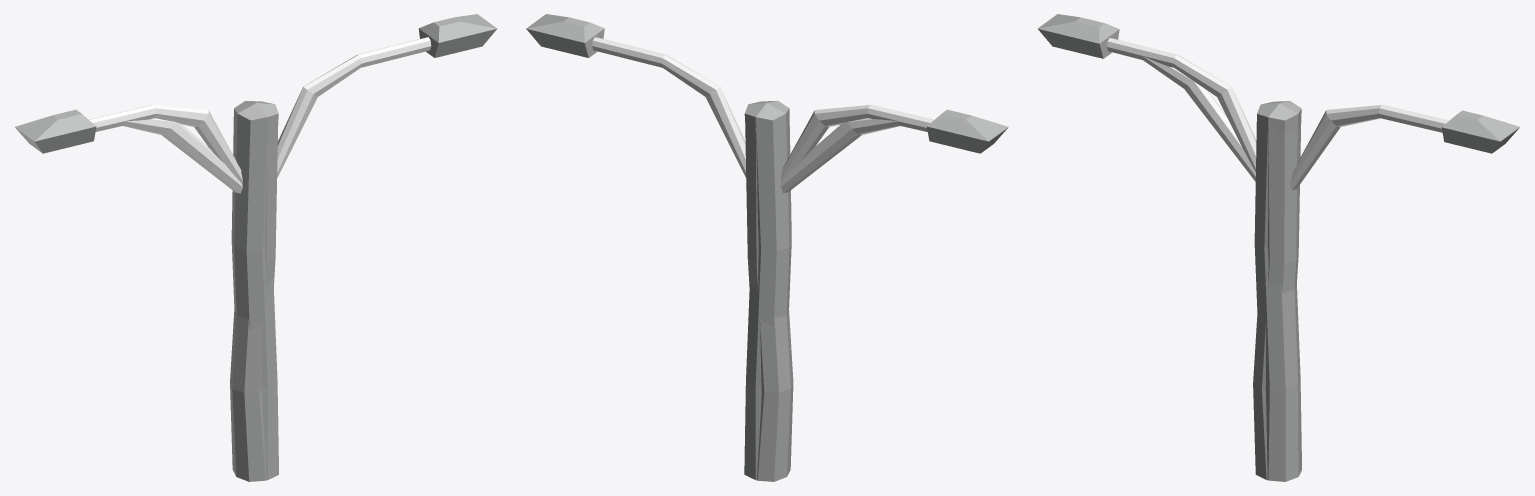
The model's file is Cenarios.fbx_Postes_de_Luz.fbx.
3 views of the same model, side by side, from view 1: azimuth 30°, elevation 25°; view 2: azimuth 150°, elevation 25°; view 3: azimuth 330°, elevation 25° (orthographic).
Parts seen in each view (by area): view 1: Poste Luz Duplo, Poste Luz Unico; view 2: Poste Luz Duplo, Poste Luz Unico; view 3: Poste Luz Duplo, Poste Luz Unico.
Part boxes in pixels (x1=…): Poste Luz Duplo: x1=15, y1=14, x2=497, y2=480; Poste Luz Unico: x1=56, y1=102, x2=277, y2=481; Poste Luz Duplo: x1=526, y1=14, x2=1008, y2=480; Poste Luz Unico: x1=745, y1=103, x2=983, y2=481; Poste Luz Duplo: x1=1037, y1=14, x2=1519, y2=481; Poste Luz Unico: x1=1080, y1=18, x2=1301, y2=479.
Bounding box in the file's own units: 600 × 500 × 50.12.
